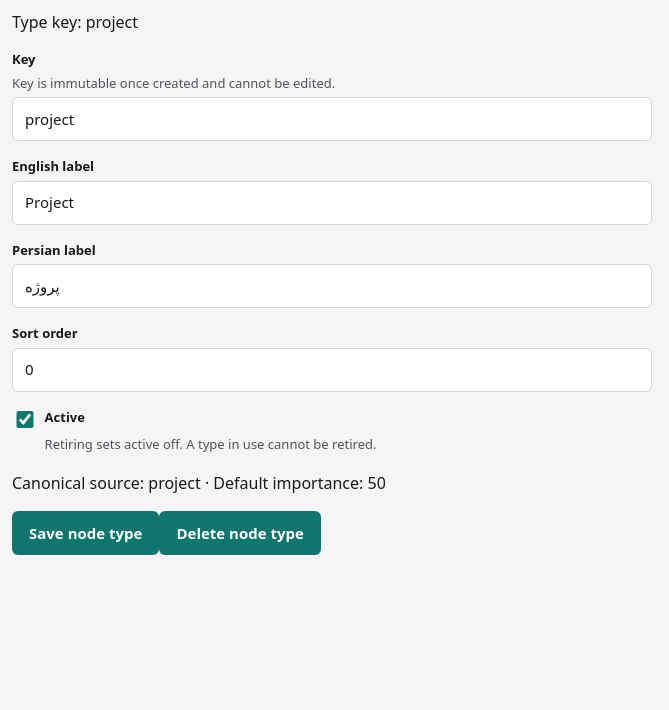
Test case: NodeTypeForm (Plan B Task 13) › surfaces the server conflict when deleting an in-use type
Click the button "Delete node type": point(240, 533) 159,511 -> 321,555
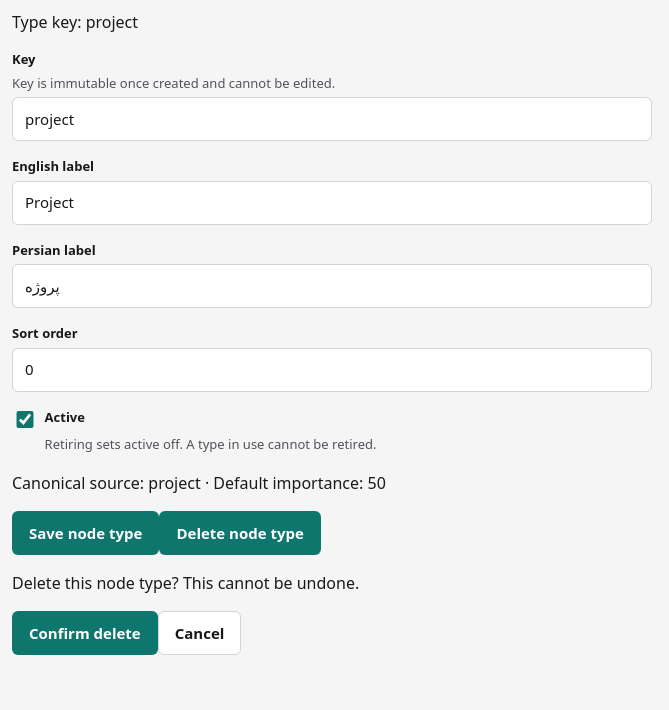
Check: the button "Confirm delete" is shown
Click the button "Confirm delete": point(85, 633) 12,611 -> 158,655
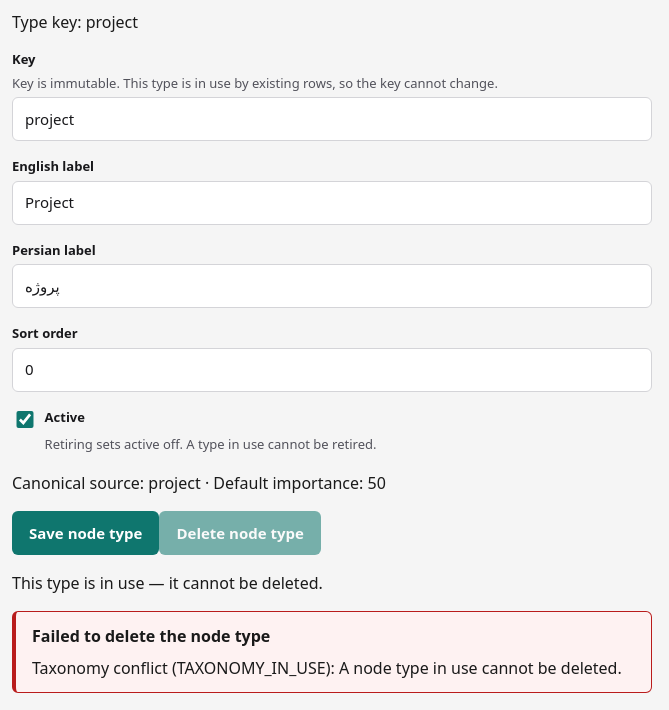
Check: the text "TAXONOMY_IN_USE" is shown, box 32,657 -> 622,679
